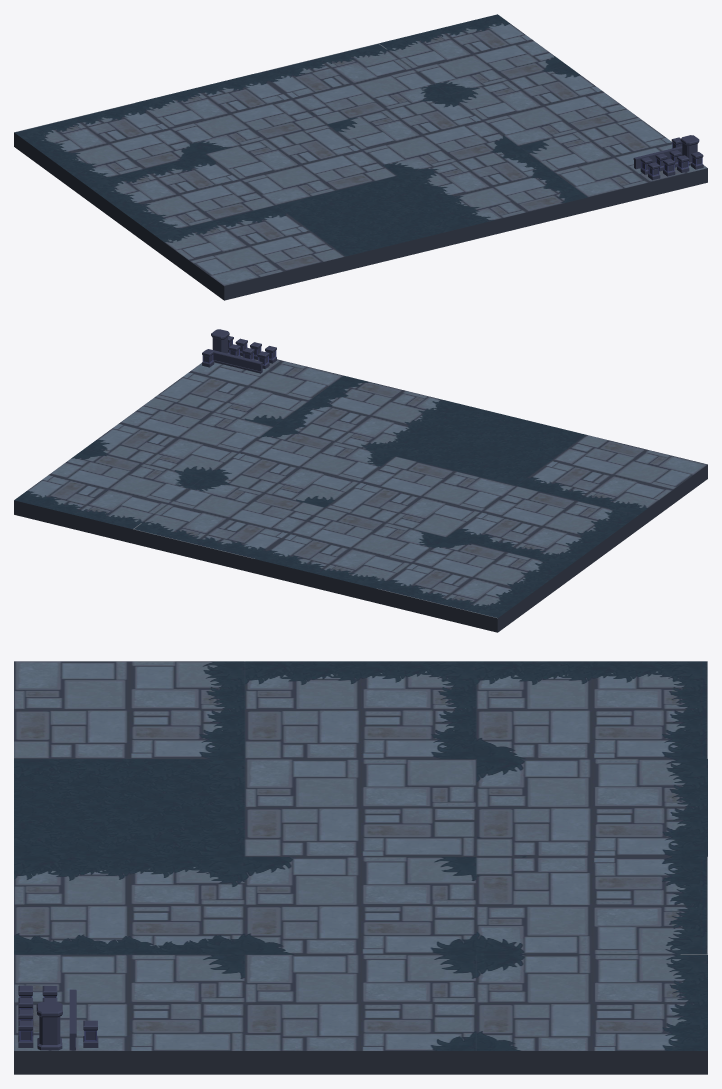
File: TilesAndWalls.fbx
3 renders of one model, top to bottom at view 1: azimuth 30°, elevation 25°; view 2: azimuth 150°, elevation 25°; view 3: azimuth 270°, elevation 25°, orthographic. The views are drawn at different scales.
Parts seen in each view (by area): view 1: tile9, tile11, tile10, tile5, tile1, tile12, tile6, tile2, tile4, tile8, tile3, tile7 (+1 smaller); view 2: tile1, tile3, tile4, tile2, tile5, tile9, tile10, tile6, tile8, tile7, tile11, tile12 (+2 smaller); view 3: tile8, tile4, tile12, tile3, tile5, tile6, tile7, tile11, tile9, tile1, tile2, tile10 (+2 smaller).
Part boxes in pixels (<box>): tile9: <box>154,205,345,300</box>; tile11: <box>396,146,586,241</box>; tile10: <box>275,176,465,270</box>; tile5: <box>84,154,274,248</box>; tile1: <box>14,103,204,197</box>; tile12: <box>517,117,707,211</box>; tile6: <box>205,124,395,205</box>; tile2: <box>135,73,325,153</box>; tile4: <box>377,14,567,94</box>; tile8: <box>447,65,637,146</box>; tile3: <box>256,44,446,124</box>; tile7: <box>326,95,516,175</box>; tile1: <box>376,537,567,632</box>; tile3: <box>135,478,325,573</box>; tile4: <box>14,449,204,543</box>; tile2: <box>256,508,446,602</box>; tile5: <box>447,486,637,580</box>; tile9: <box>517,435,707,529</box>; tile10: <box>396,405,586,485</box>; tile6: <box>326,457,516,537</box>; tile8: <box>84,397,274,478</box>; tile7: <box>205,427,395,507</box>; tile11: <box>275,376,465,456</box>; tile12: <box>154,356,344,426</box>; tile8: <box>245,953,476,1074</box>; tile4: <box>476,953,707,1074</box>; tile12: <box>14,953,245,1074</box>; tile3: <box>476,856,707,953</box>; tile5: <box>245,661,476,758</box>; tile6: <box>245,758,476,855</box>; tile7: <box>245,856,476,953</box>; tile11: <box>14,856,245,953</box>; tile9: <box>14,661,245,758</box>; tile1: <box>476,661,707,758</box>; tile2: <box>476,758,707,855</box>; tile10: <box>14,758,245,855</box>.
Size of the model in its own units: 351 by 26.07 by 264.
